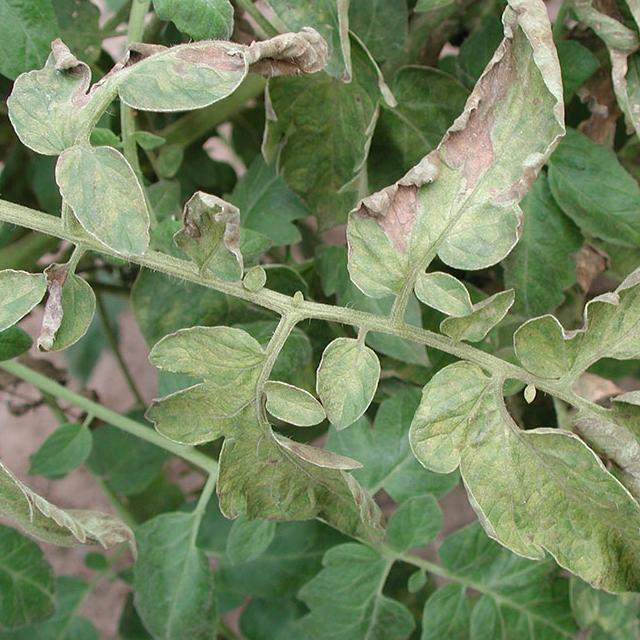Tomato mold leaf: (341, 0, 571, 301), (406, 353, 640, 601), (0, 14, 325, 146), (509, 193, 640, 382), (46, 142, 162, 266), (302, 332, 384, 432), (173, 188, 251, 288), (245, 377, 331, 431), (0, 270, 51, 349)
